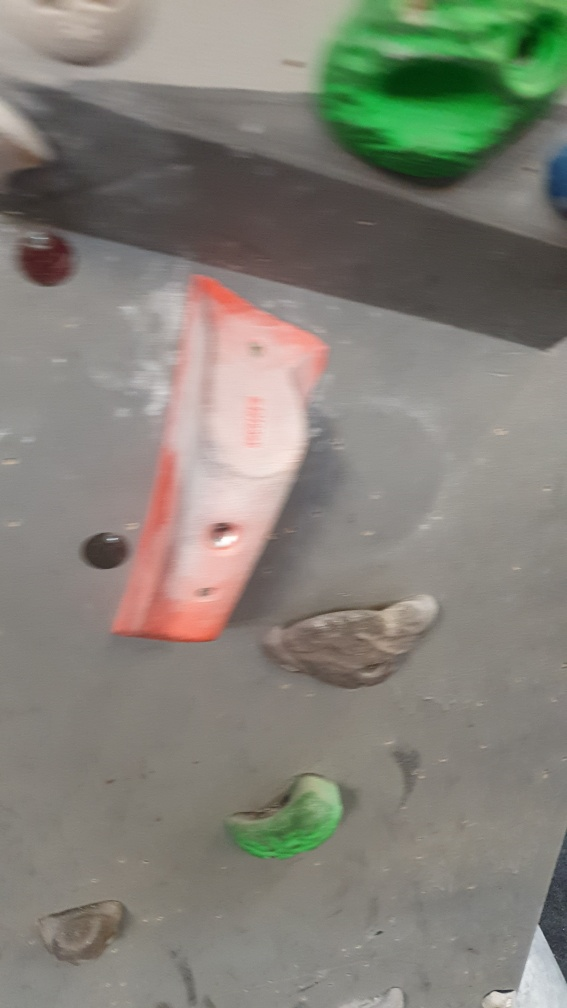Hand Start: (15, 223, 84, 288), (76, 530, 134, 574)
Jug: (261, 580, 443, 694), (221, 767, 349, 868)
Pinch: (105, 271, 334, 644)
